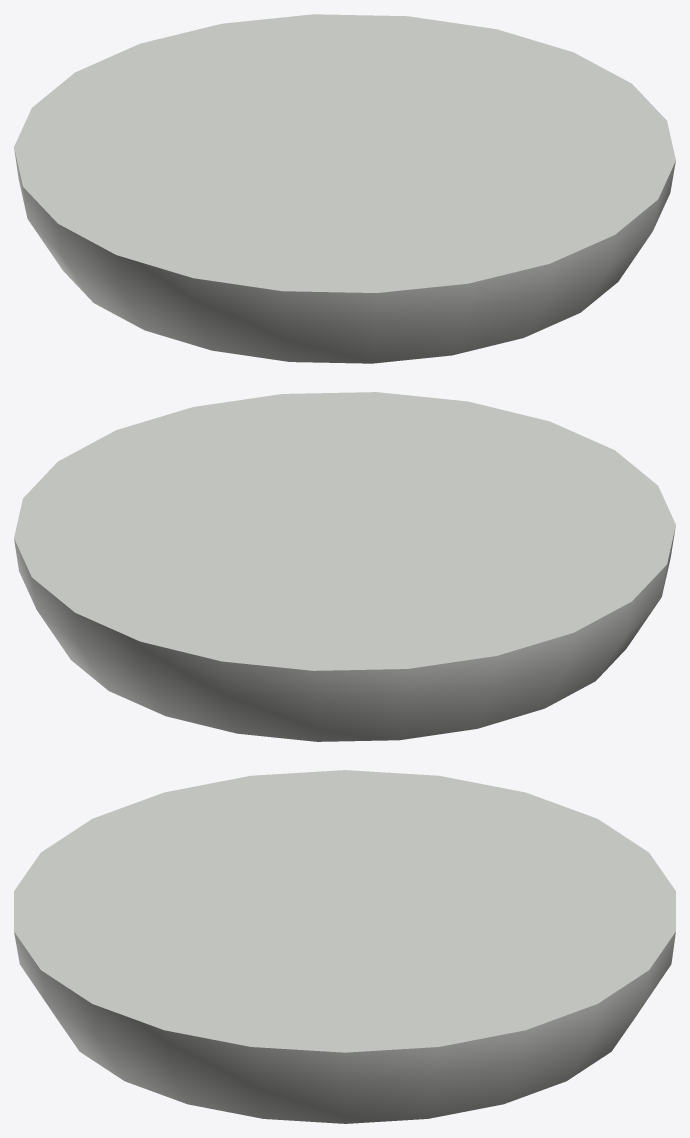
File: Focus.FBX
3 renders of one model, top to bottom at view 1: azimuth 30°, elevation 25°; view 2: azimuth 150°, elevation 25°; view 3: azimuth 270°, elevation 25°, orthographic.
Parts seen in each view (by area): view 1: focus light; view 2: focus light; view 3: focus light.
Boxes of the visible parts, x1,y1,x2,y2 form: focus light: (14, 14, 675, 363); focus light: (14, 392, 675, 741); focus light: (14, 770, 675, 1123).
Size of the model in its own units: 11 by 1.62 by 10.88.
2 materials, 2 textured.
